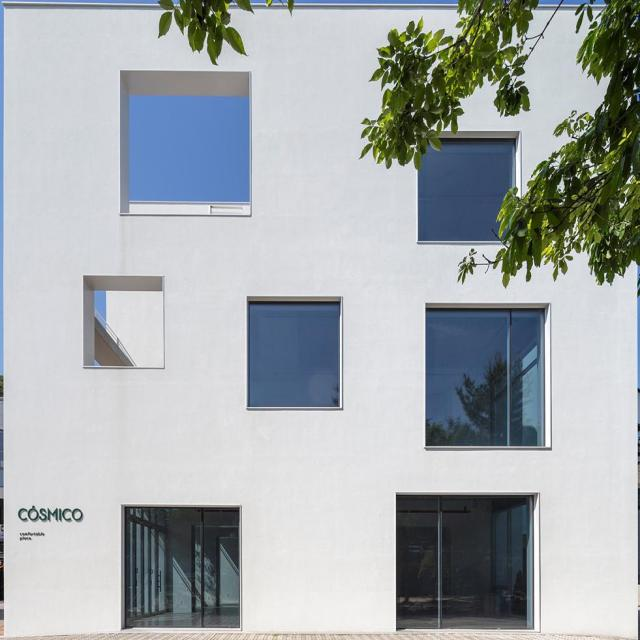plant: (494, 0, 639, 286), (358, 0, 541, 165), (159, 0, 250, 60)
wall: (3, 0, 639, 639)
windows: (398, 494, 530, 634), (423, 306, 546, 444), (122, 505, 239, 627), (128, 91, 248, 203), (243, 298, 342, 405), (420, 135, 517, 238)
